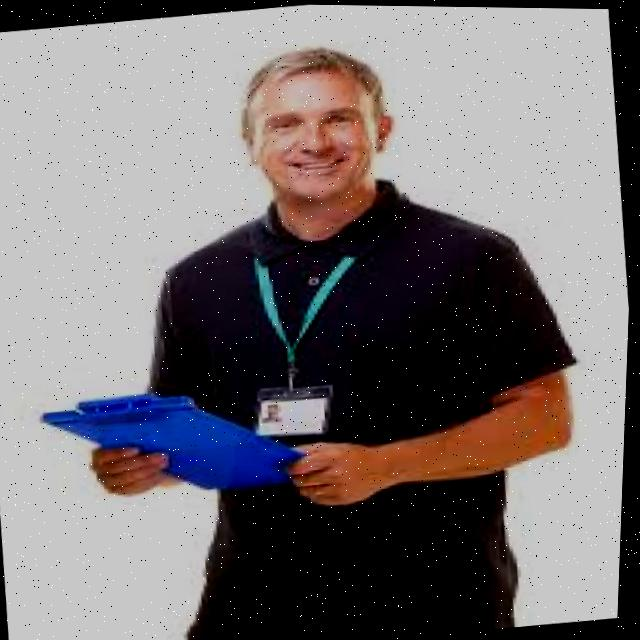id_card: (236, 234, 376, 450)
